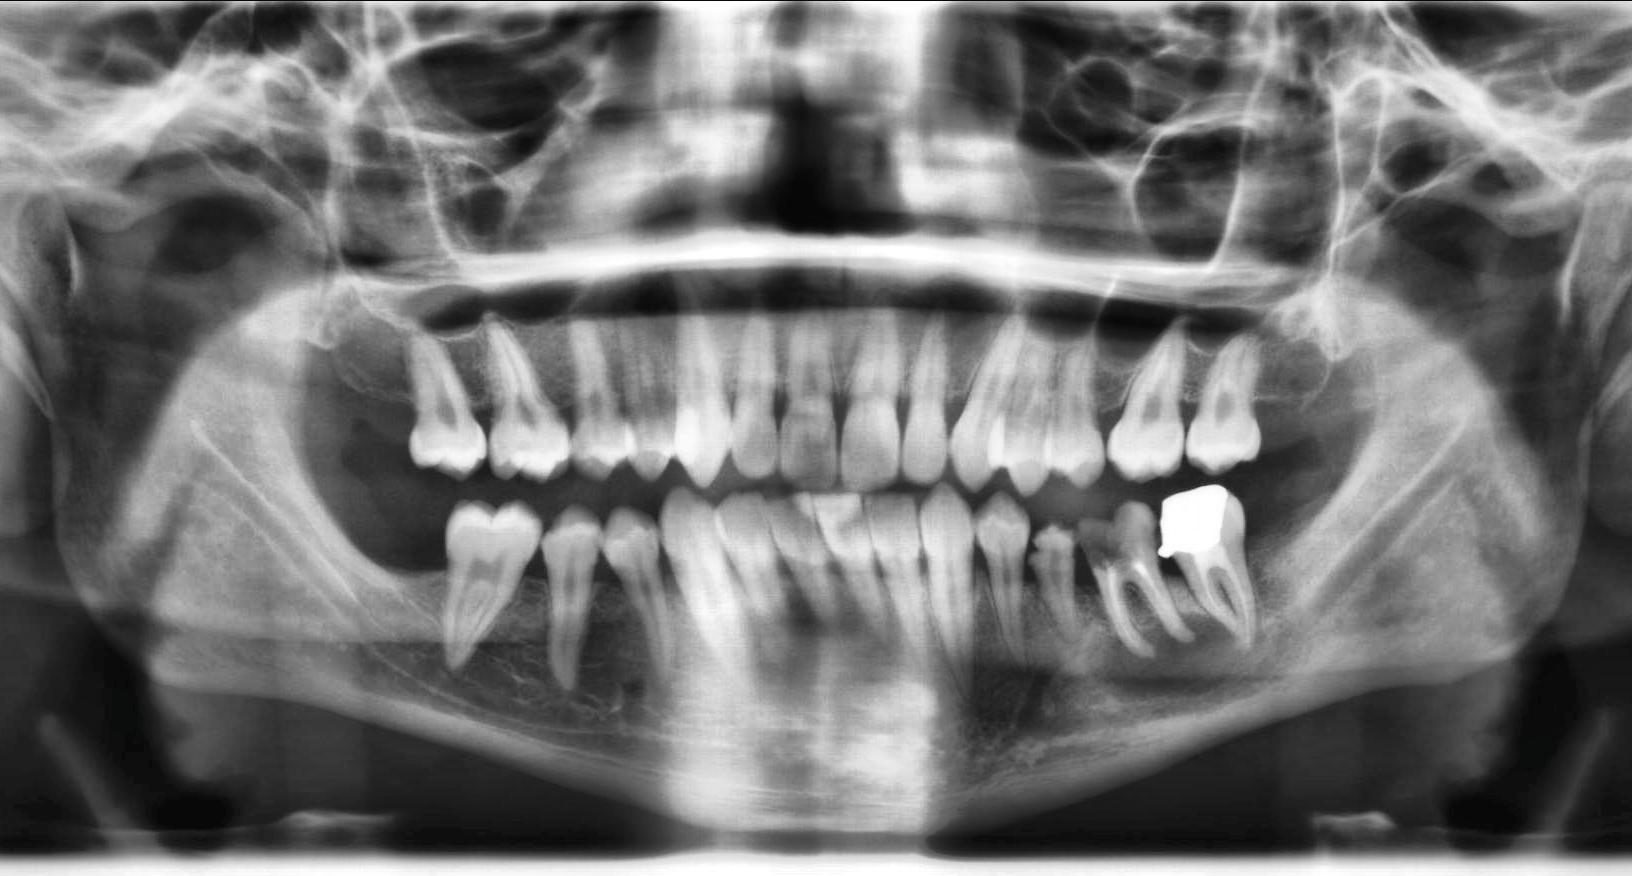radikuler: (1086, 613, 1248, 703)
